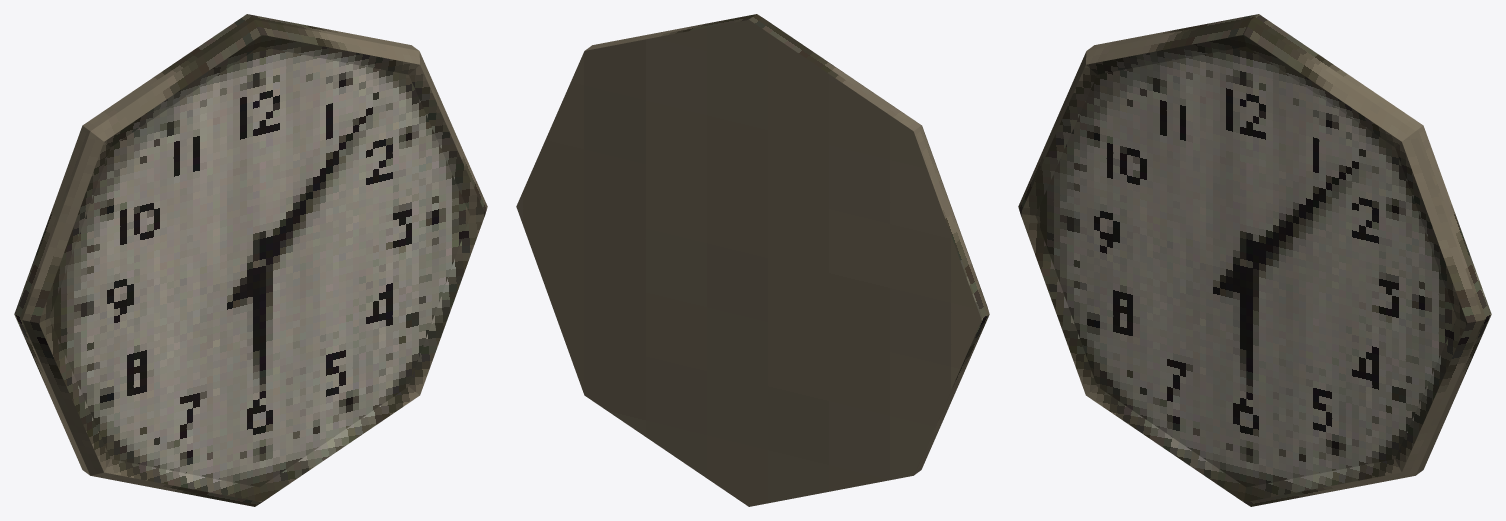
File: wall_clock.glb
3 renders of one model, left to right at view 1: azimuth 30°, elevation 25°; view 2: azimuth 150°, elevation 25°; view 3: azimuth 330°, elevation 25°, orthographic.
Parts seen in each view (by area): view 1: wall_clock; view 2: wall_clock; view 3: wall_clock.
Part boxes in pixels (<box>): wall_clock: <box>14,14,487,506</box>; wall_clock: <box>516,14,989,506</box>; wall_clock: <box>1018,14,1491,506</box>.
Size of the model in its own units: 0.6042 by 0.6042 by 0.0339.
1 material, 1 textured.
